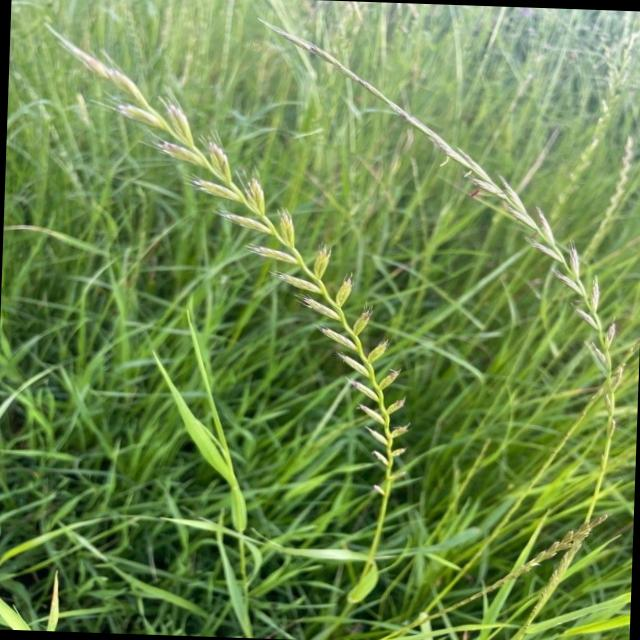Lolium: (239, 23, 630, 636), (28, 24, 410, 614)
